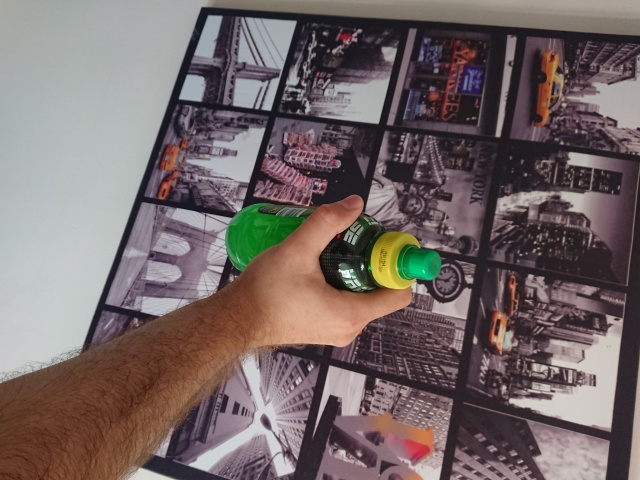Vindi Iso Sport Lemon-Grapefruit 500mL: (222, 200, 444, 296)
